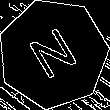N_SE: (23, 22, 84, 86)
